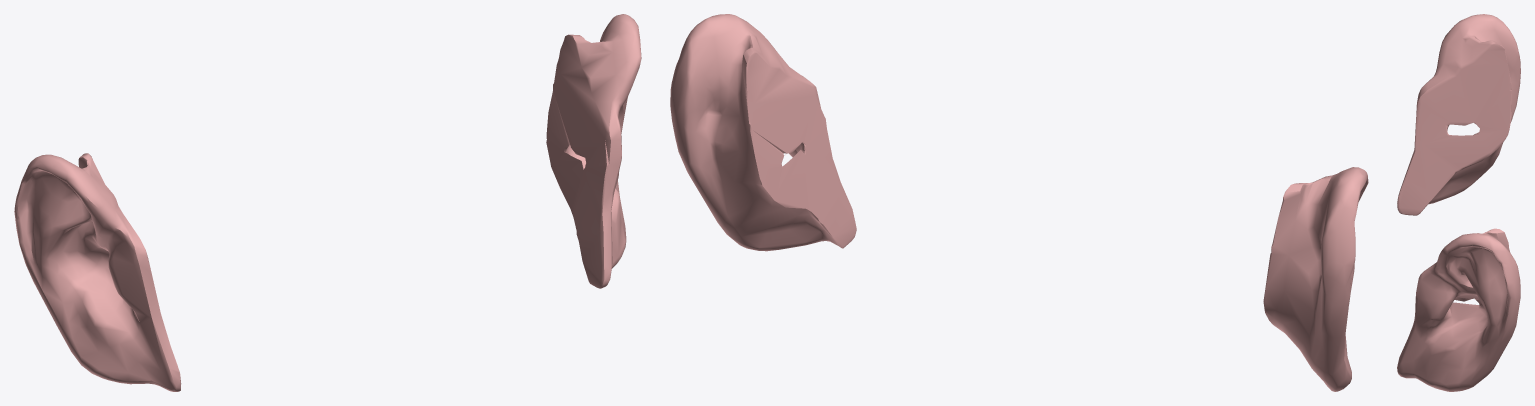
The model's file is sensory-ear.v1.glb.
3 renders of one model, left to right at view 1: azimuth 30°, elevation 25°; view 2: azimuth 150°, elevation 25°; view 3: azimuth 270°, elevation 25°, orthographic. The views are drawn at different scales.
Visible parts, largest first — view 1: external_ear; view 2: external_ear; view 3: external_ear.
Boxes of the visible parts, bbox=[...] form: external_ear: bbox=[14, 14, 641, 391]; external_ear: bbox=[670, 14, 1368, 391]; external_ear: bbox=[1397, 14, 1520, 391].
Size of the model in its own units: 0.1675 by 0.057 by 0.0373.
